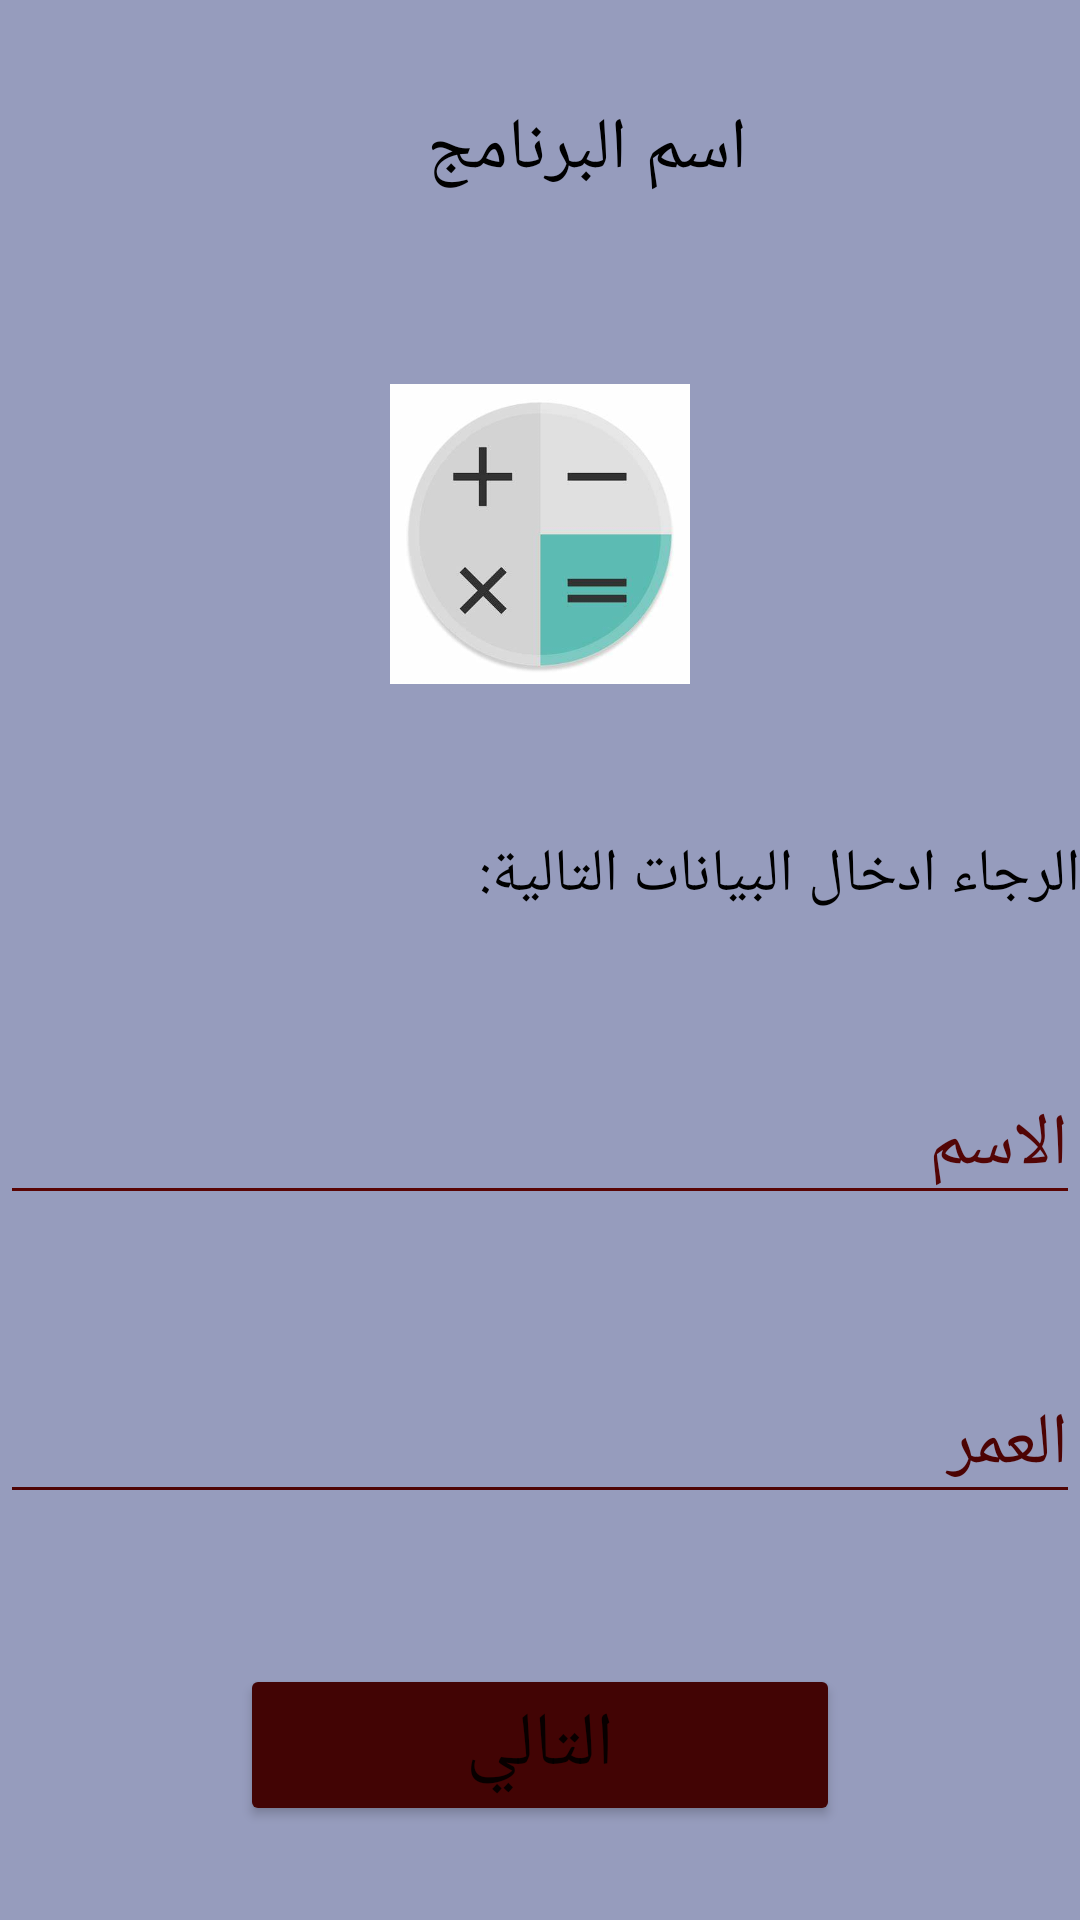

Locate icon controls on the screen. Image size 1080w x 1920h, boxes as bbox(x1, y1, x2, y2).
calce: bbox(390, 384, 690, 684)
